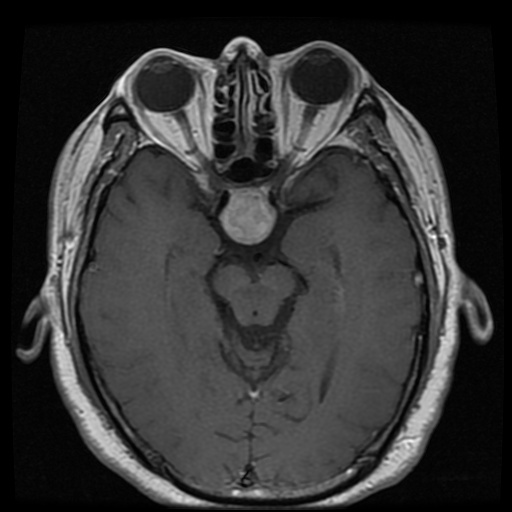pituitary: (223, 185, 276, 243)
